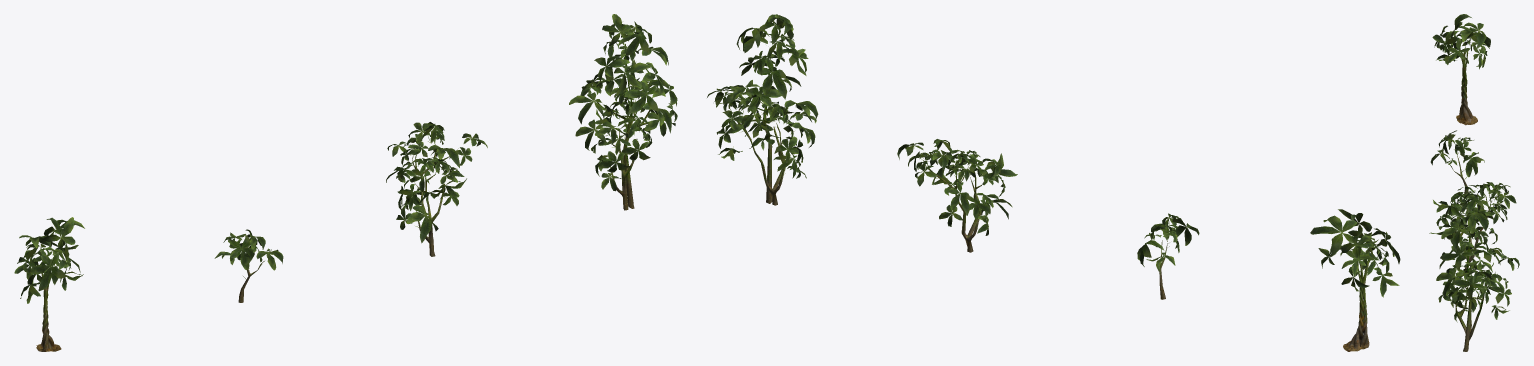
The model's file is pachira_aquatica_01.glb.
The picture shows the model from 3 angles, left to right: view 1: azimuth 30°, elevation 25°; view 2: azimuth 150°, elevation 25°; view 3: azimuth 270°, elevation 25°; orthographic projection. The views are drawn at different scales.
Visible parts, largest first — view 1: pachira_aquatica_01_leaves_d, pachira_aquatica_01_leaves_c, pachira_aquatica_01_leaves_a, pachira_aquatica_01_leaves_b, pachira_aquatica_01_bark_d, pachira_aquatica_01_bark_c, pachira_aquatica_01_bark_a; view 2: pachira_aquatica_01_leaves_d, pachira_aquatica_01_leaves_c, pachira_aquatica_01_leaves_a, pachira_aquatica_01_leaves_b, pachira_aquatica_01_bark_d, pachira_aquatica_01_bark_a, pachira_aquatica_01_bark_c; view 3: pachira_aquatica_01_leaves_d, pachira_aquatica_01_leaves_c, pachira_aquatica_01_leaves_a, pachira_aquatica_01_leaves_b, pachira_aquatica_01_bark_d, pachira_aquatica_01_bark_a, pachira_aquatica_01_bark_c, pachira_aquatica_01_bark_b.
Part boxes in pixels (x1,y1,x2,y2): pachira_aquatica_01_leaves_d: (569, 14, 677, 191); pachira_aquatica_01_leaves_c: (386, 122, 487, 243); pachira_aquatica_01_leaves_a: (14, 217, 84, 303); pachira_aquatica_01_leaves_b: (214, 229, 283, 278); pachira_aquatica_01_bark_d: (595, 44, 652, 210); pachira_aquatica_01_bark_c: (409, 137, 457, 256); pachira_aquatica_01_bark_a: (36, 265, 61, 351); pachira_aquatica_01_leaves_d: (707, 14, 818, 178); pachira_aquatica_01_leaves_c: (897, 139, 1017, 235); pachira_aquatica_01_leaves_a: (1310, 209, 1400, 297); pachira_aquatica_01_leaves_b: (1137, 213, 1199, 273); pachira_aquatica_01_bark_d: (728, 43, 792, 205); pachira_aquatica_01_bark_a: (1343, 259, 1369, 351); pachira_aquatica_01_bark_c: (923, 159, 985, 252); pachira_aquatica_01_leaves_d: (1429, 190, 1519, 322); pachira_aquatica_01_leaves_c: (1433, 182, 1516, 244); pachira_aquatica_01_leaves_a: (1432, 14, 1490, 69); pachira_aquatica_01_leaves_b: (1430, 130, 1484, 179); pachira_aquatica_01_bark_d: (1455, 220, 1493, 351); pachira_aquatica_01_bark_a: (1456, 50, 1477, 125); pachira_aquatica_01_bark_c: (1454, 191, 1497, 268); pachira_aquatica_01_bark_b: (1448, 149, 1468, 195).
Bounding box in the file's own units: 6.87 × 1.9 × 0.9971.
2 materials, 2 textured.
